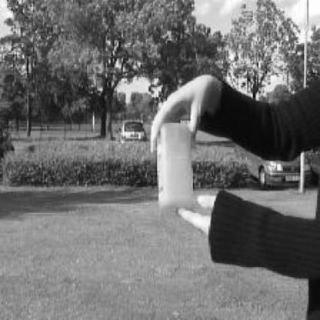other: (137, 113, 204, 211)
